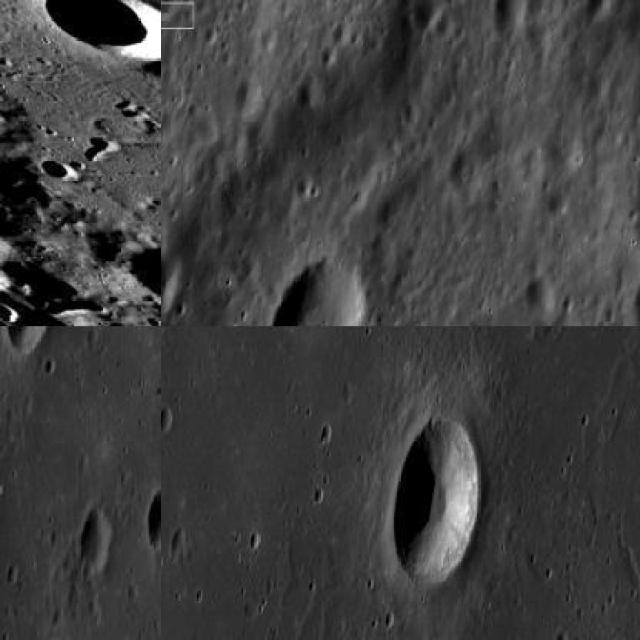crater: (392, 417, 480, 589), (44, 0, 158, 60), (272, 256, 366, 324), (80, 508, 111, 575), (6, 326, 51, 356), (148, 484, 158, 554)
